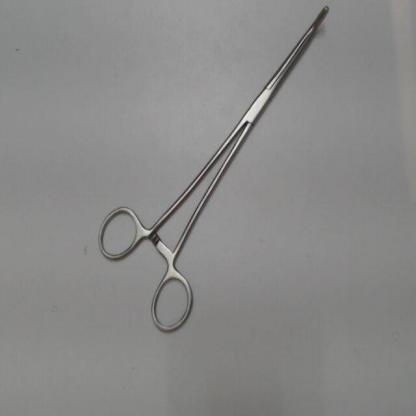Lahey Forceps: (94, 1, 338, 341)
